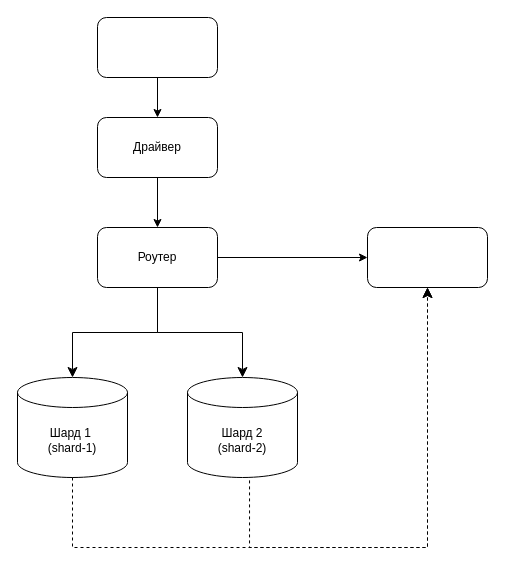
This 505x575 diagram has some shape labels left out. The shapes that lost their labels are listed below. From the top down, each one's centre as x and y in pixels, then its label:
At (157,47): "pymongo-api".
At (427,257): "Конфигурационный сервер (configSrv)".
